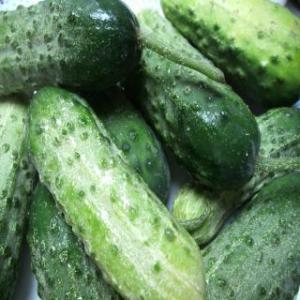cucumber: (22, 82, 209, 300), (116, 0, 266, 192), (156, 1, 300, 106), (0, 0, 142, 94), (202, 169, 300, 299)
